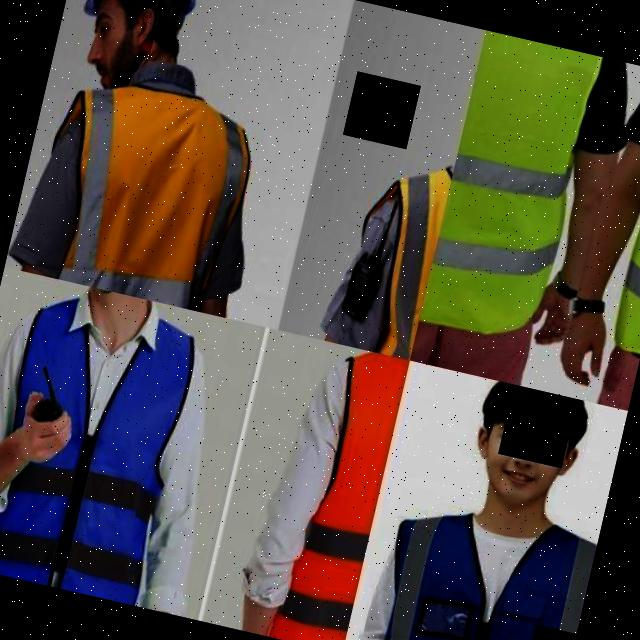vest: (0, 290, 201, 606), (418, 30, 598, 352), (41, 84, 245, 312), (280, 347, 409, 640), (383, 510, 595, 640)
